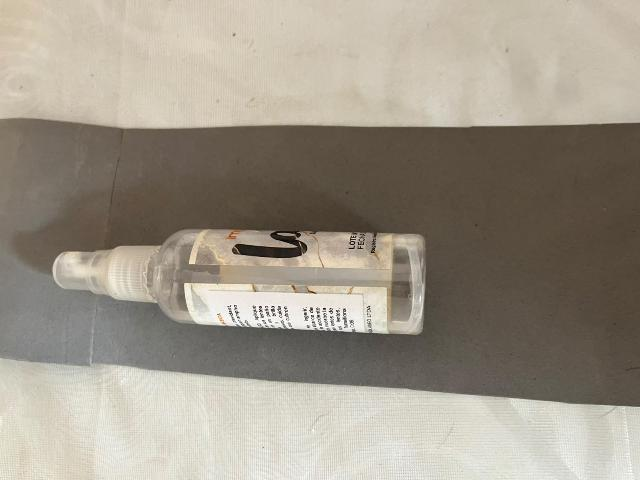PET: (36, 197, 469, 367)
